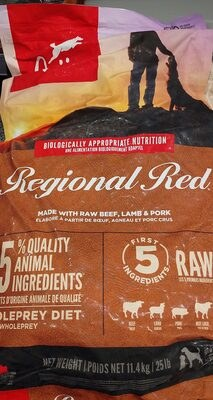Regional Red: (11, 20, 202, 380)
